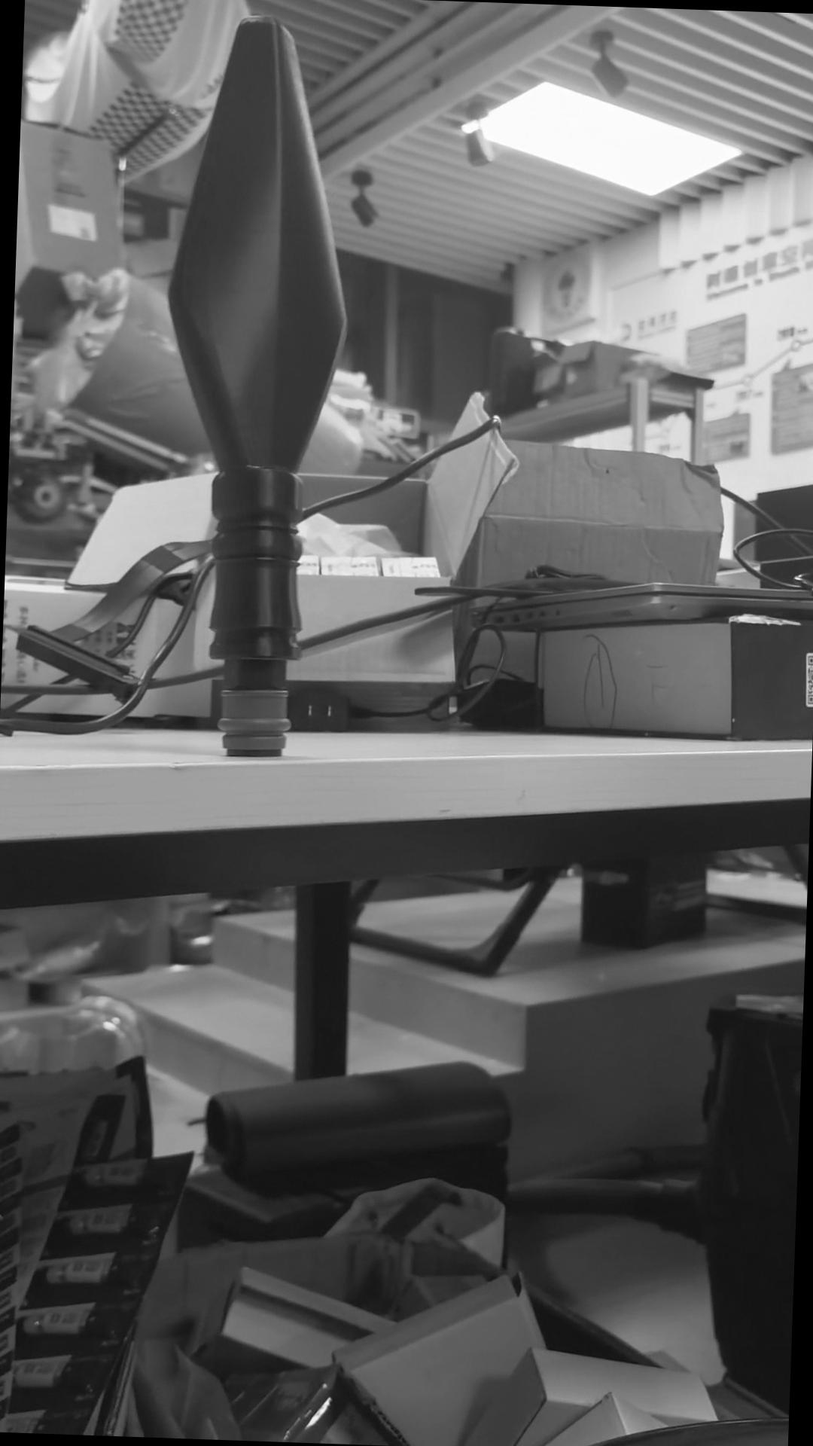base: (218, 689, 294, 758)
